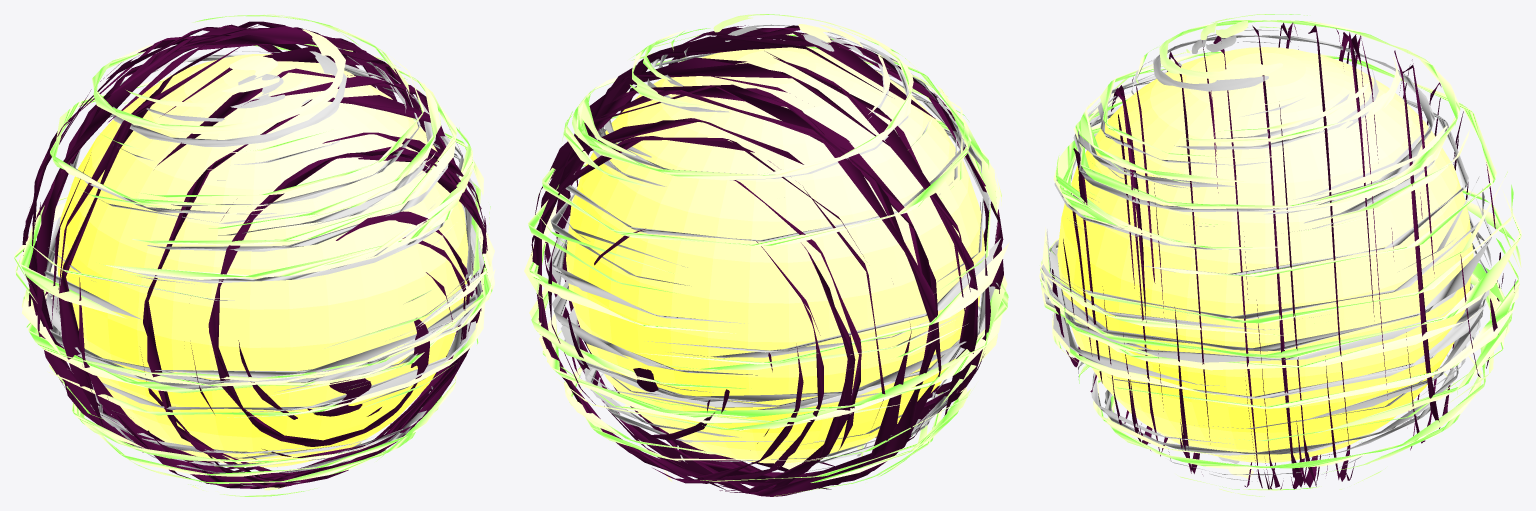
File: Green.fbx
3 views of the same model, side by side, from view 1: azimuth 30°, elevation 25°; view 2: azimuth 150°, elevation 25°; view 3: azimuth 270°, elevation 25° (orthographic).
Parts seen in each view (by area): view 1: Green; view 2: Green; view 3: Green.
Boxes of the visible parts, x1,y1,x2,y2 form: Green: (14,14,495,496); Green: (524,14,1009,496); Green: (1039,14,1521,496).
Size of the model in its own units: 332 by 329 by 331.
